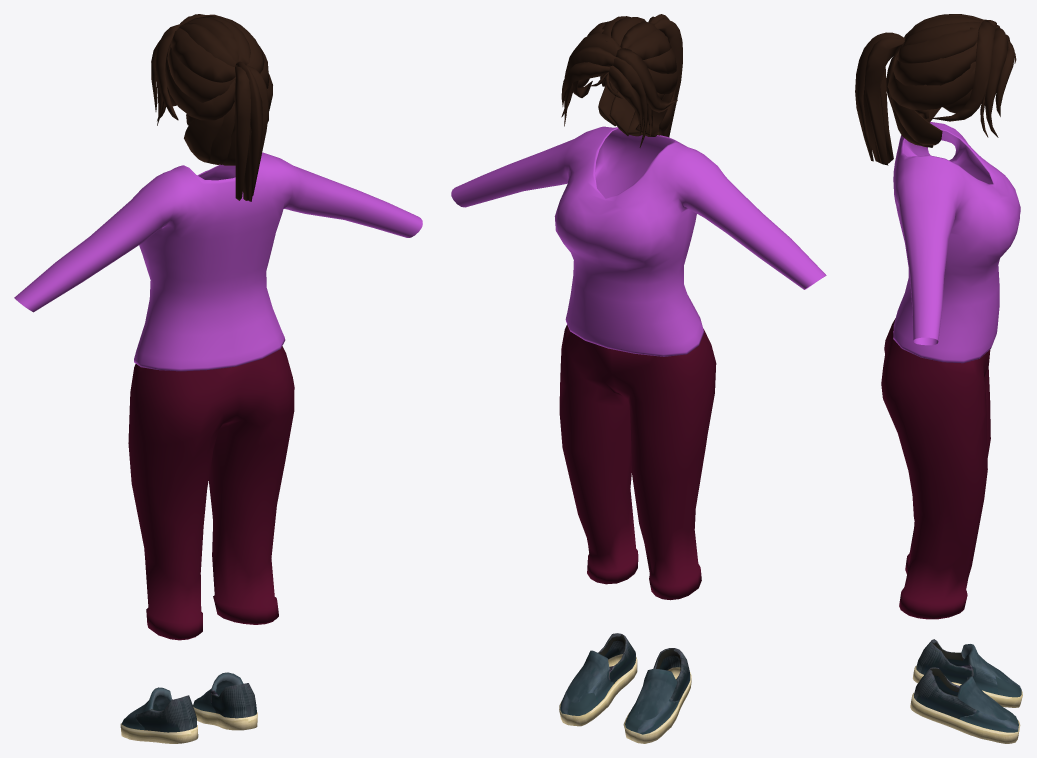
File: FEMALE SECOND CLOTH.fbx
The picture shows the model from 3 angles, left to right: view 1: azimuth 30°, elevation 25°; view 2: azimuth 150°, elevation 25°; view 3: azimuth 270°, elevation 25°; orthographic projection. The views are drawn at different scales.
Parts seen in each view (by area): view 1: Pant_pant_0, T_shirt_t_shirt_0, Hair_hair_0, FEMALE SECOND CLOTH; view 2: T_shirt_t_shirt_0, Pant_pant_0, Hair_hair_0, FEMALE SECOND CLOTH; view 3: T_shirt_t_shirt_0, Pant_pant_0, Hair_hair_0, FEMALE SECOND CLOTH.
Part boxes in pixels (<box>): Pant_pant_0: <box>128,346,294,640</box>; T_shirt_t_shirt_0: <box>14,152,422,371</box>; Hair_hair_0: <box>151,14,272,201</box>; FEMALE SECOND CLOTH: <box>120,672,257,743</box>; T_shirt_t_shirt_0: <box>451,126,826,356</box>; Pant_pant_0: <box>559,324,716,600</box>; Hair_hair_0: <box>561,14,682,147</box>; FEMALE SECOND CLOTH: <box>559,633,691,743</box>; T_shirt_t_shirt_0: <box>893,122,1020,363</box>; Pant_pant_0: <box>881,318,990,619</box>; Hair_hair_0: <box>855,14,1016,165</box>; FEMALE SECOND CLOTH: <box>910,639,1022,743</box>.
Size of the model in its own units: 82.36 by 144 by 30.8.
Materials: 1 (1 with a texture image).
